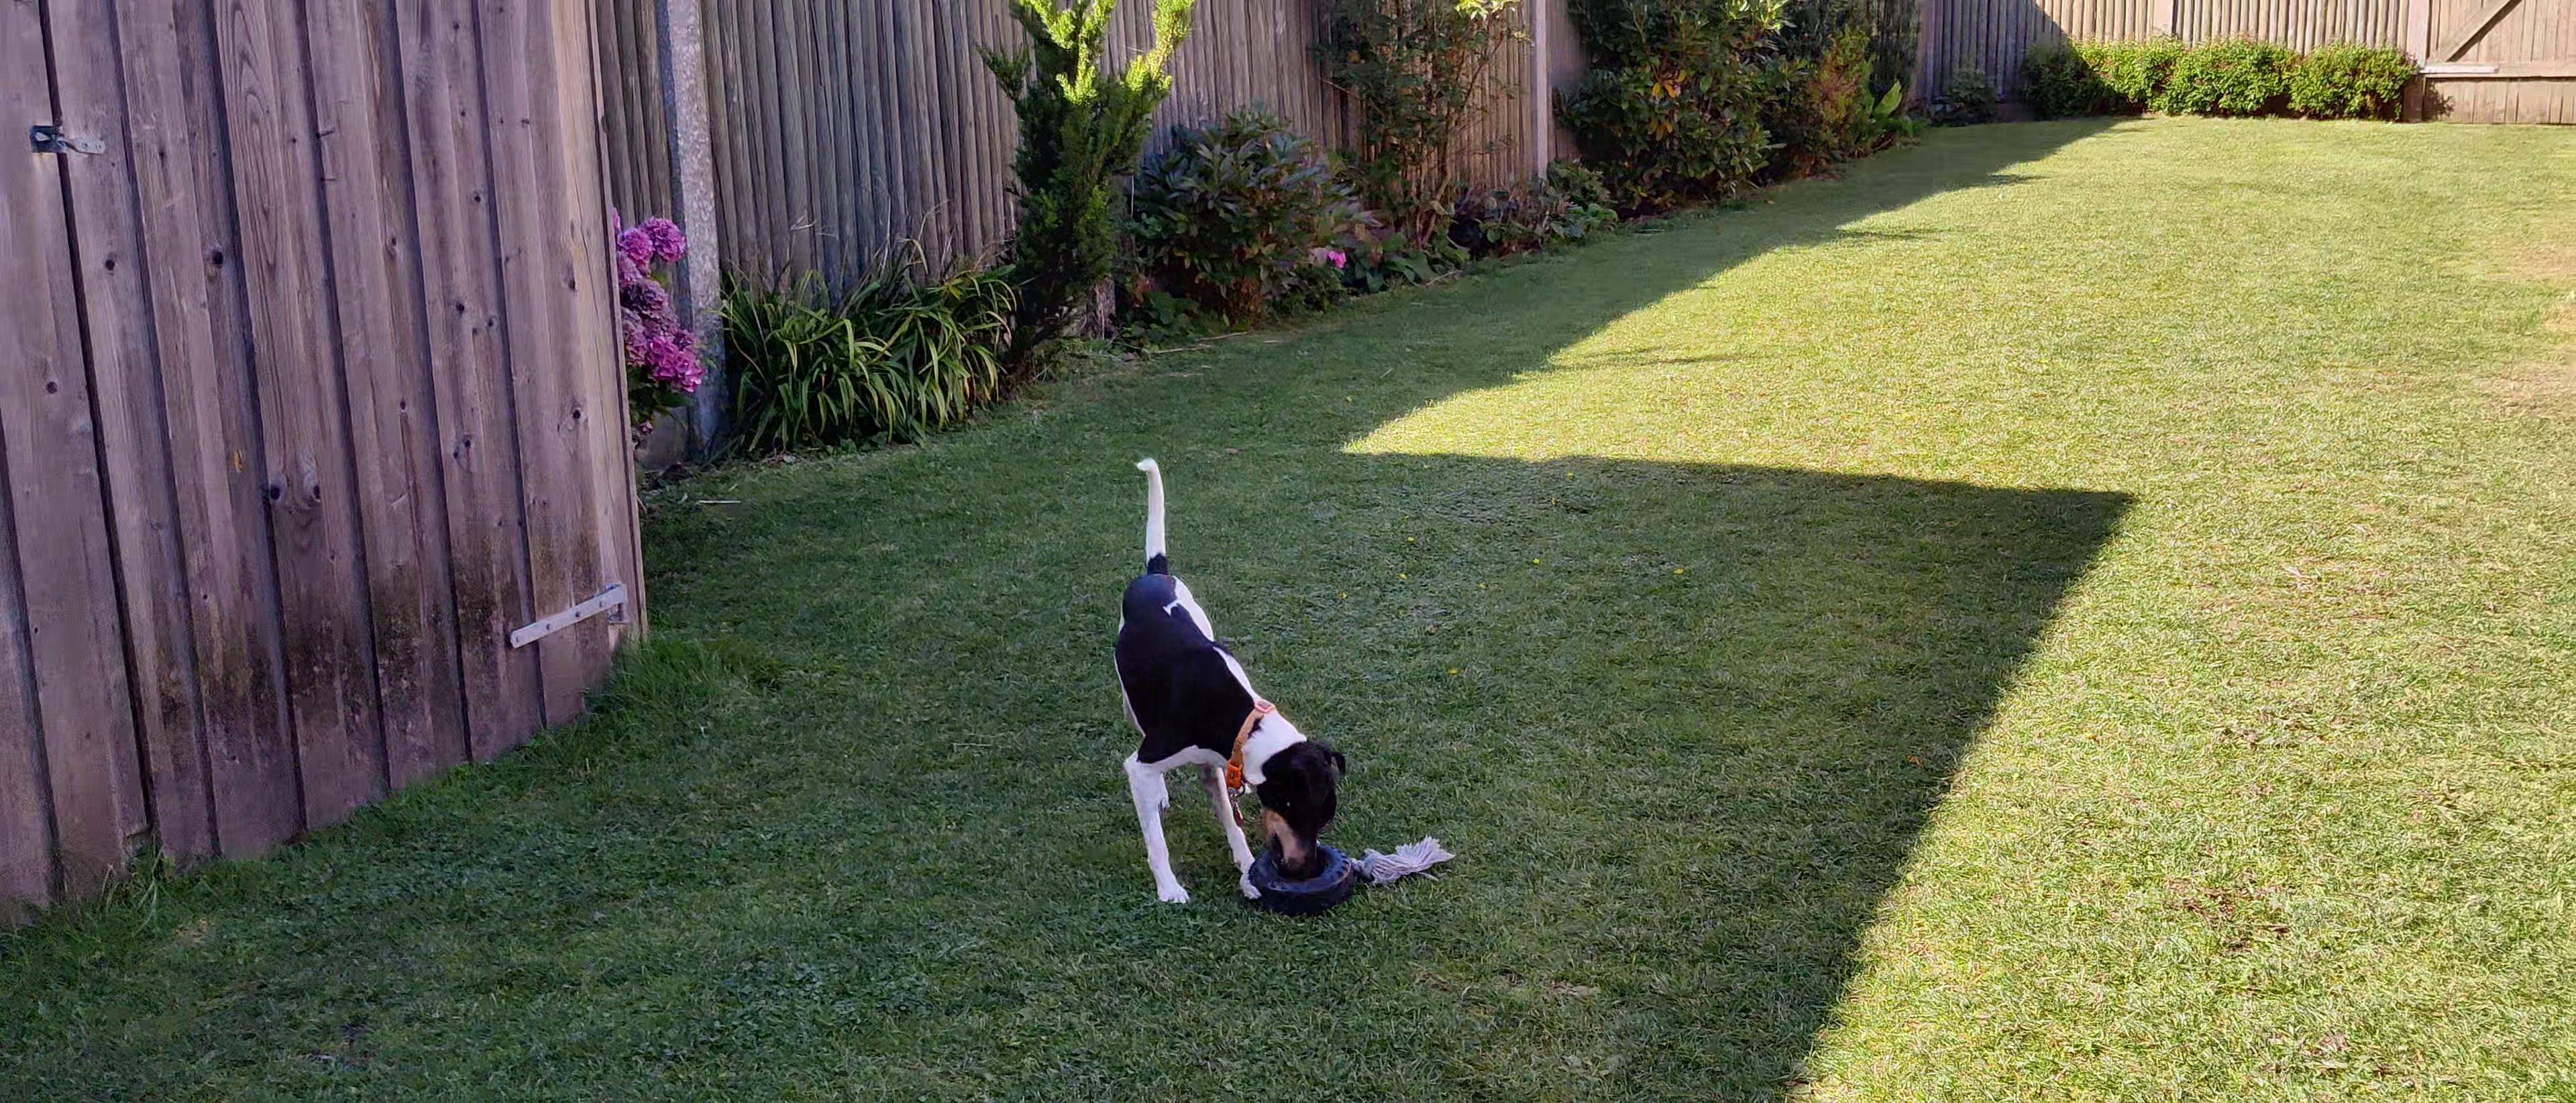Dog: (1102, 454, 1350, 906)
